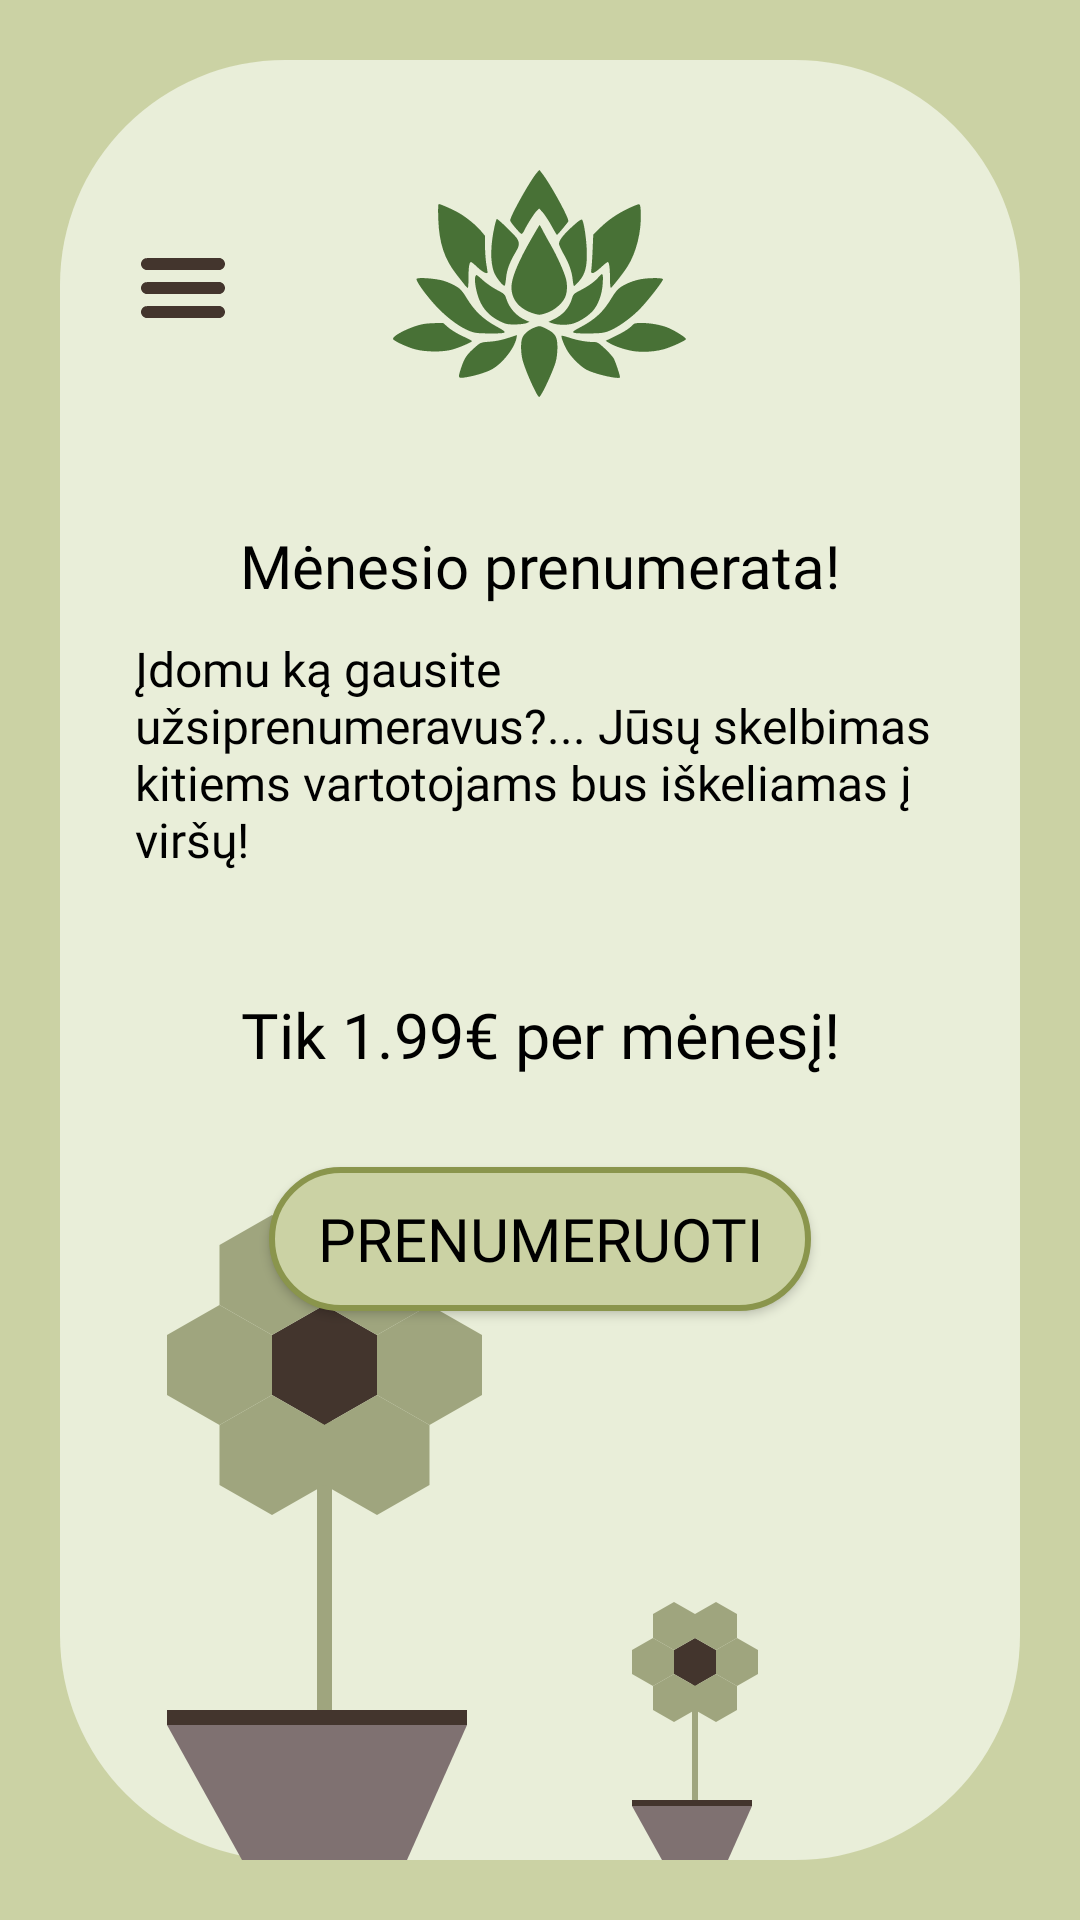

Locate icon controls on the screen. Image size 1080 × 1920, boxes as (x1, y1, x2, y2).
lotus: (393, 170, 686, 397)
